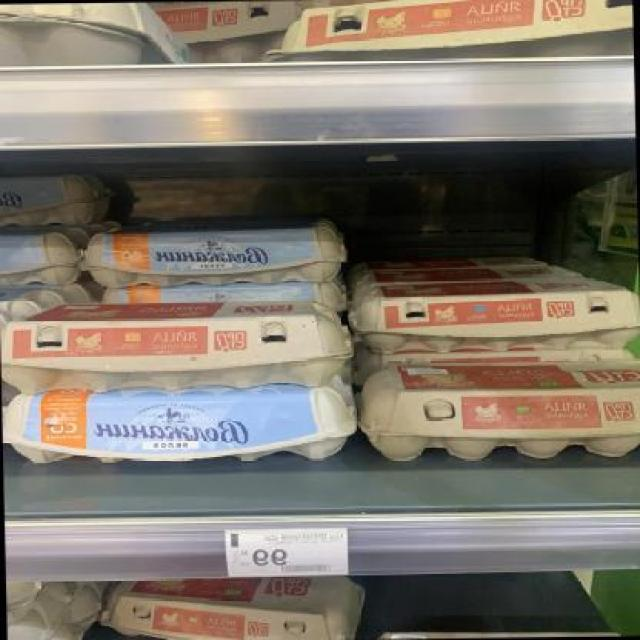Egg: (0, 297, 354, 389), (356, 358, 639, 462), (348, 274, 640, 357)
